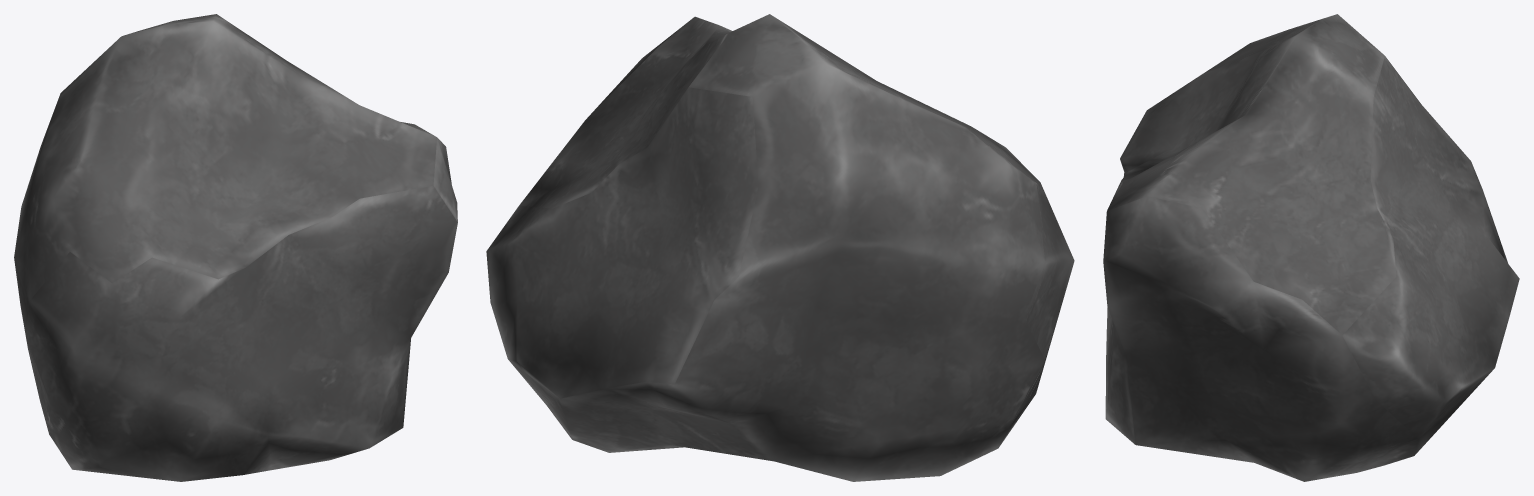
File: ROK0110011.fbx
3 renders of one model, left to right at view 1: azimuth 30°, elevation 25°; view 2: azimuth 150°, elevation 25°; view 3: azimuth 270°, elevation 25°, orthographic. The views are drawn at different scales.
Visible parts, largest first — view 1: smROK0110011; view 2: smROK0110011; view 3: smROK0110011.
Boxes of the visible parts, left/top/right/bottom form: smROK0110011: left=14, top=14, right=457, bottom=481; smROK0110011: left=486, top=14, right=1074, bottom=481; smROK0110011: left=1103, top=14, right=1519, bottom=481.
Bounding box in the file's own units: 206 × 182 × 180.
Materials: 1 (1 with a texture image).
